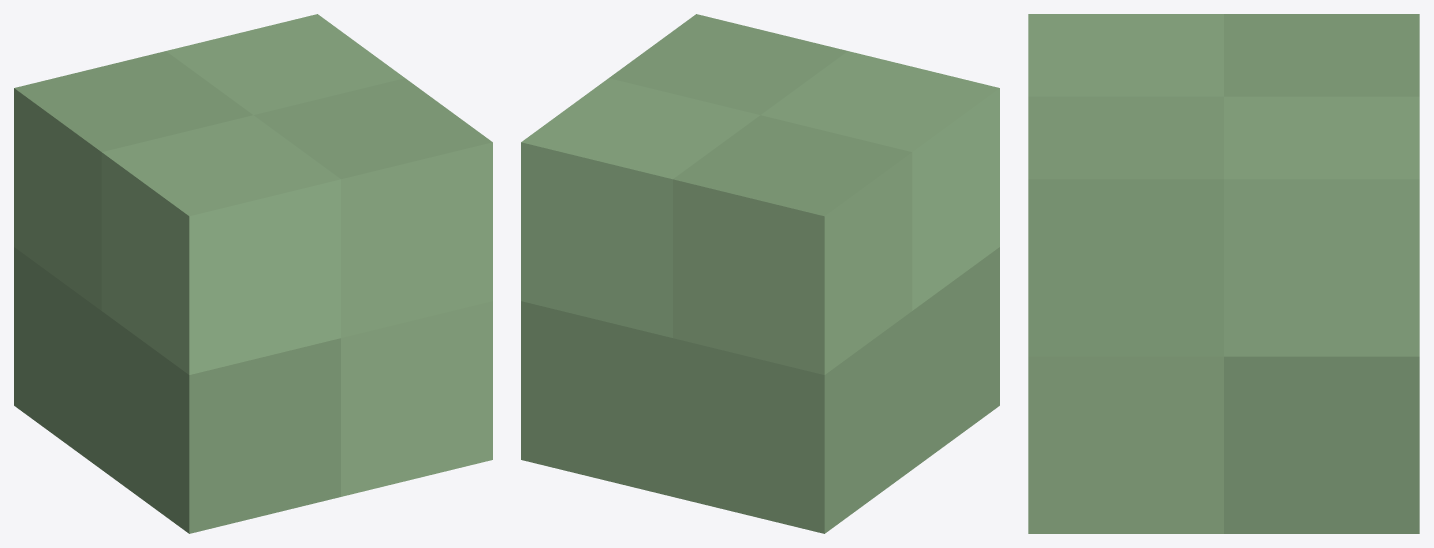
Rendered from tree_ornament.v1.lite.glb.
The picture shows the model from 3 angles, left to right: view 1: azimuth 30°, elevation 25°; view 2: azimuth 150°, elevation 25°; view 3: azimuth 270°, elevation 25°; orthographic projection. The views are drawn at different scales.
Parts seen in each view (by area): view 1: tree_ornament; view 2: tree_ornament; view 3: tree_ornament.
Boxes of the visible parts, x1,y1,x2,y2 form: tree_ornament: (14, 14, 492, 533); tree_ornament: (521, 14, 999, 533); tree_ornament: (1028, 14, 1419, 533).
Bounding box in the file's own units: 1 × 1 × 1.
